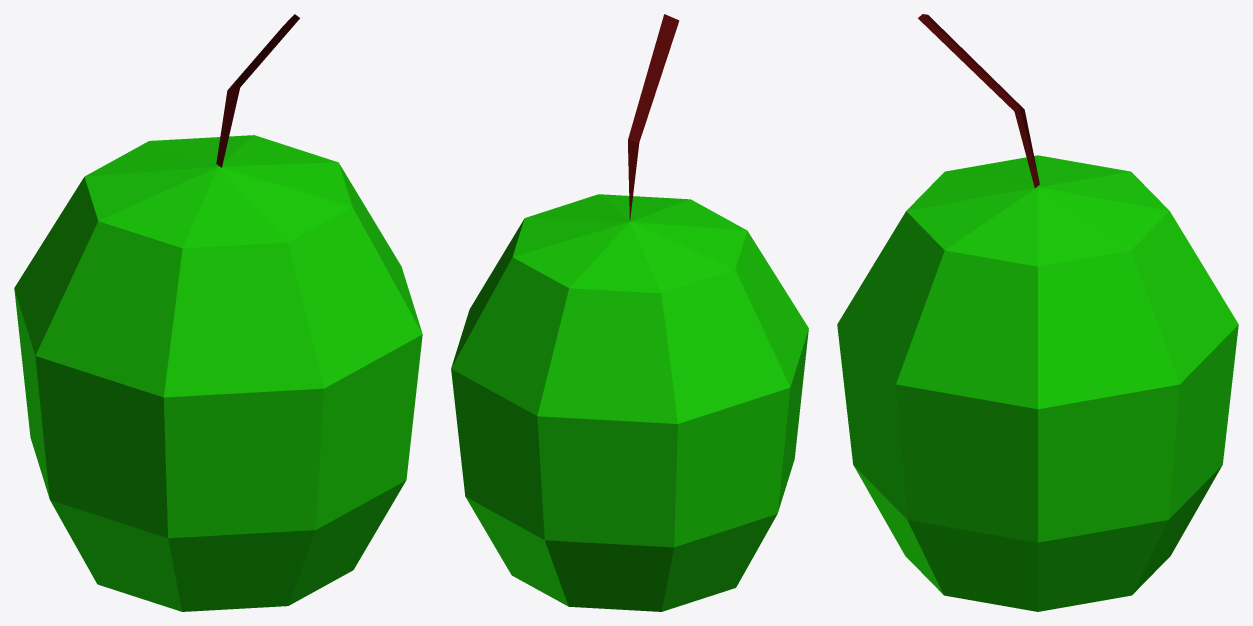
Rendered from pera1.FBX.
The picture shows the model from 3 angles, left to right: view 1: azimuth 30°, elevation 25°; view 2: azimuth 150°, elevation 25°; view 3: azimuth 270°, elevation 25°; orthographic projection. The views are drawn at different scales.
Parts seen in each view (by area): view 1: pera; view 2: pera; view 3: pera.
Boxes of the visible parts, bbox=[...] form: pera: bbox=[14, 14, 422, 611]; pera: bbox=[451, 14, 808, 611]; pera: bbox=[837, 14, 1238, 611].
Bounding box in the file's own units: 7.68 × 11.98 × 7.68.
